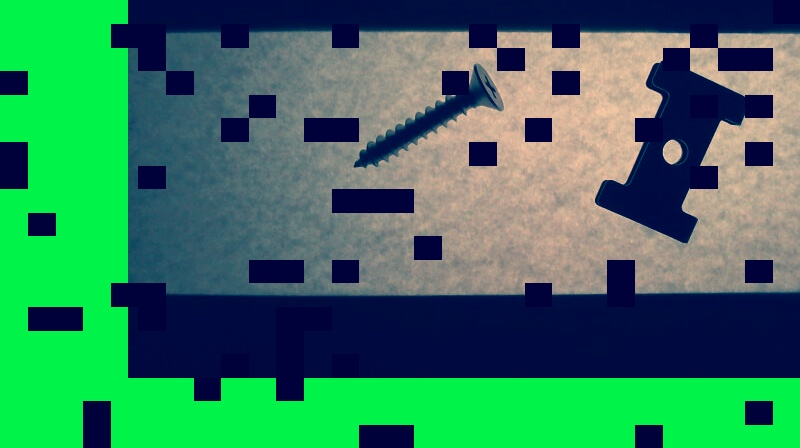O002: (591, 56, 754, 247)
S001: (347, 59, 507, 175)
